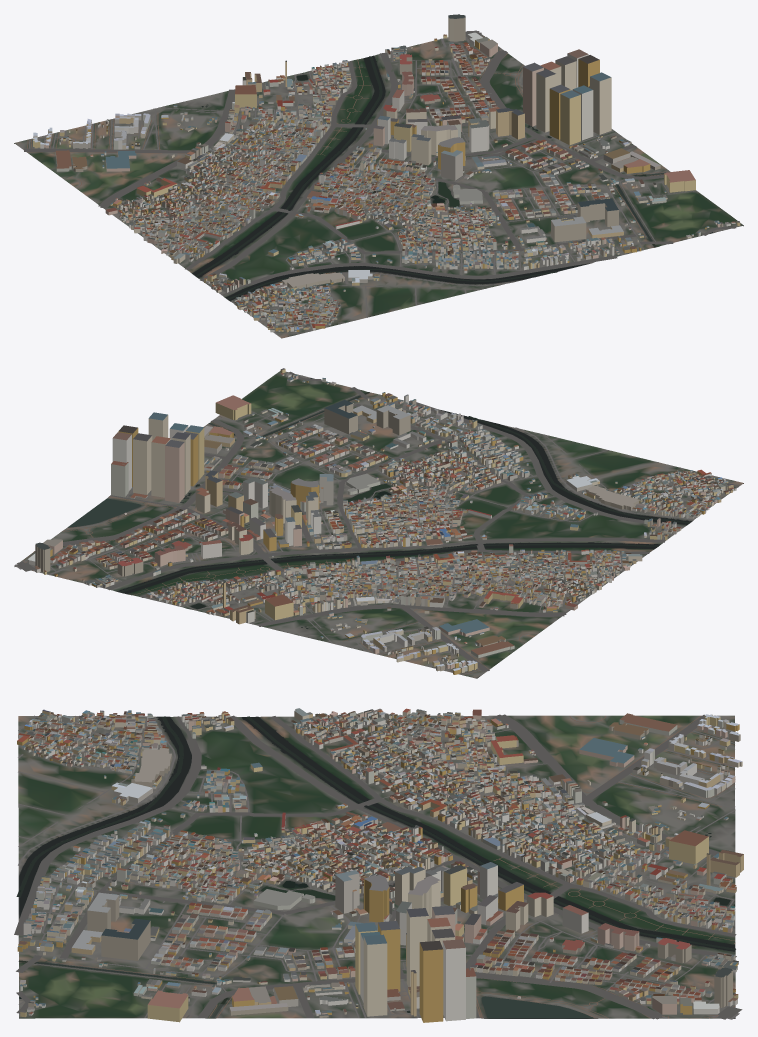
3 views of the same model, one above another, from view 1: azimuth 30°, elevation 25°; view 2: azimuth 150°, elevation 25°; view 3: azimuth 270°, elevation 25° (orthographic). The views are drawn at different scales.
Visible parts, largest first — view 1: buildings, ground, roads, water; view 2: buildings, ground, roads, water; view 3: buildings, ground, roads, water.
Boxes of the visible parts, x1,y1,x2,y2 form: buildings: [33, 14, 740, 332]; ground: [14, 30, 743, 338]; roads: [23, 31, 735, 334]; water: [192, 55, 712, 301]; buildings: [27, 368, 736, 674]; ground: [14, 371, 743, 678]; roads: [14, 371, 738, 675]; water: [68, 378, 691, 628]; buildings: [17, 708, 743, 1022]; ground: [18, 715, 735, 1018]; roads: [14, 714, 742, 1019]; water: [16, 716, 735, 1018].
Size of the model in its own units: 1431 by 165 by 1428.
